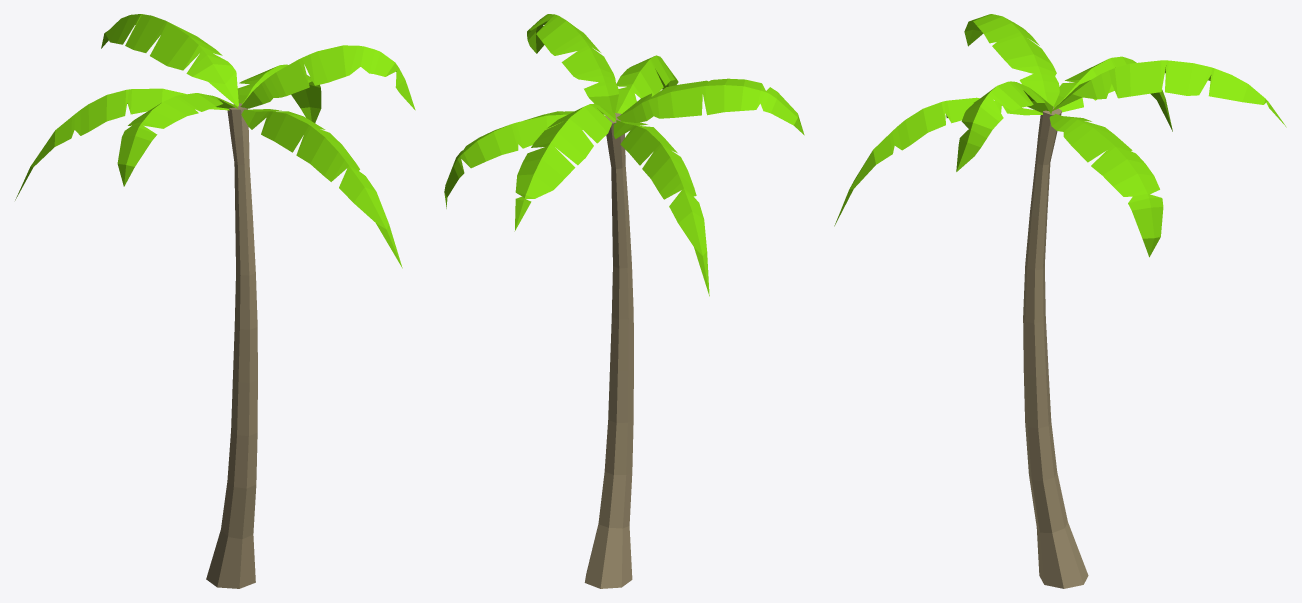
Rendered from palm09.fbx.
The picture shows the model from 3 angles, left to right: view 1: azimuth 30°, elevation 25°; view 2: azimuth 150°, elevation 25°; view 3: azimuth 270°, elevation 25°; orthographic projection. The views are drawn at different scales.
Parts seen in each view (by area): view 1: palm.009; view 2: palm.009; view 3: palm.009.
Part boxes in pixels (x1,y1,x2,y2): palm.009: [15, 14, 415, 588]; palm.009: [444, 14, 804, 588]; palm.009: [834, 14, 1286, 588].
Bounding box in the file's own units: 197 × 348 × 271.
